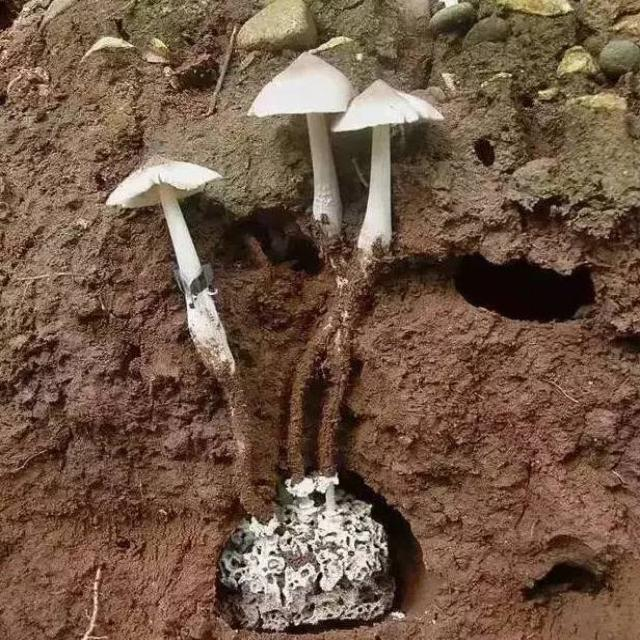Collybia albuminosa: (333, 77, 443, 251), (248, 52, 355, 226), (110, 153, 224, 276)
